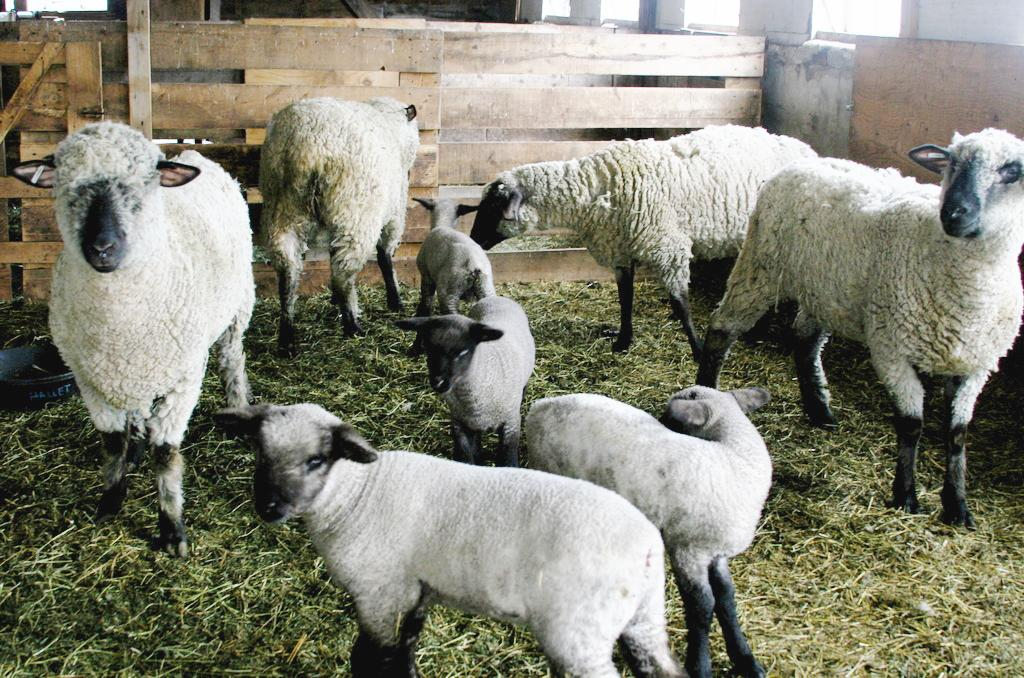Sheep: (721, 119, 1024, 585), (256, 400, 681, 677), (32, 114, 265, 546), (469, 107, 829, 386), (517, 373, 783, 671), (270, 79, 439, 344), (408, 282, 559, 464), (405, 184, 500, 331)
